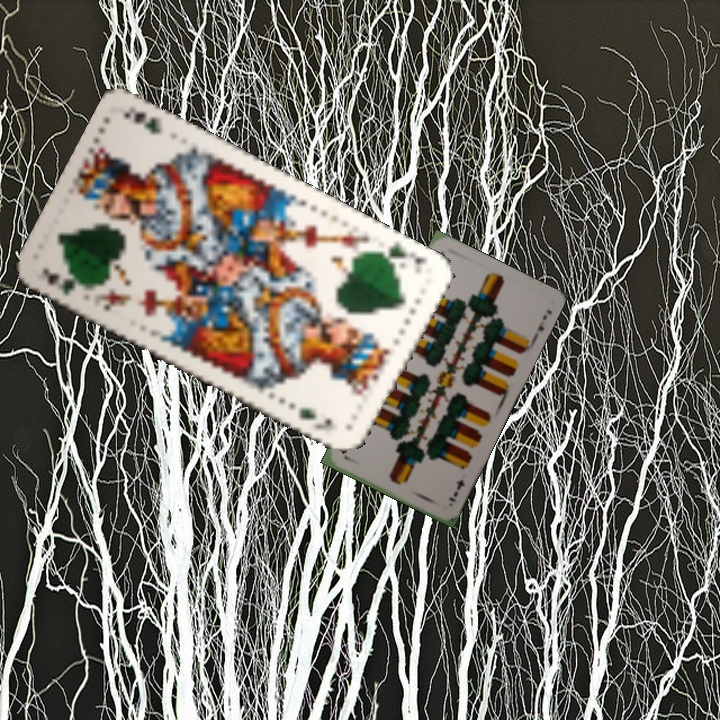E7: (444, 475, 467, 505)
GK: (375, 238, 431, 268), (39, 263, 79, 298)
